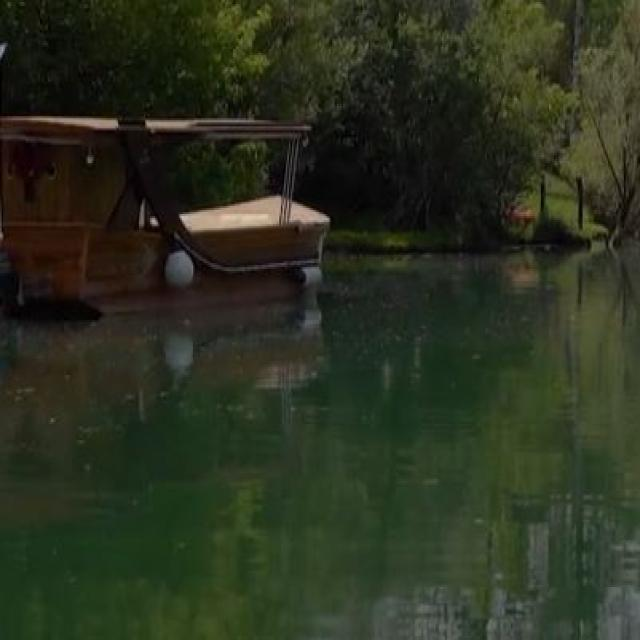boat: (0, 96, 342, 318)
